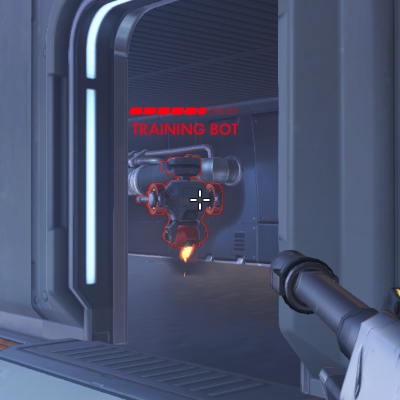hpbar: (128, 106, 240, 116)
